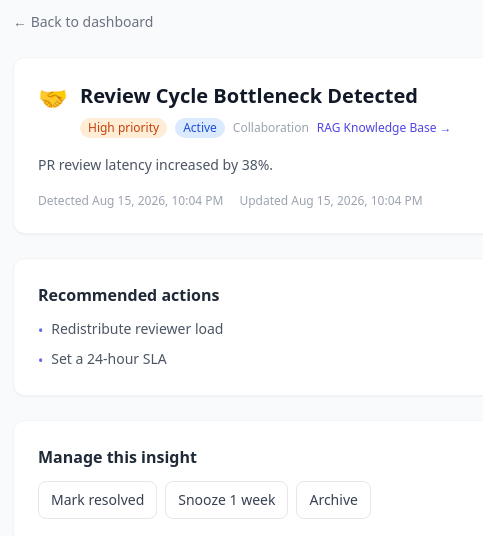
Test case: InsightDetail › resolves the insight when "Mark resolved" is clicked
Click the button "Mark resolved". click: (98, 500)
box: [38,481,157,519]
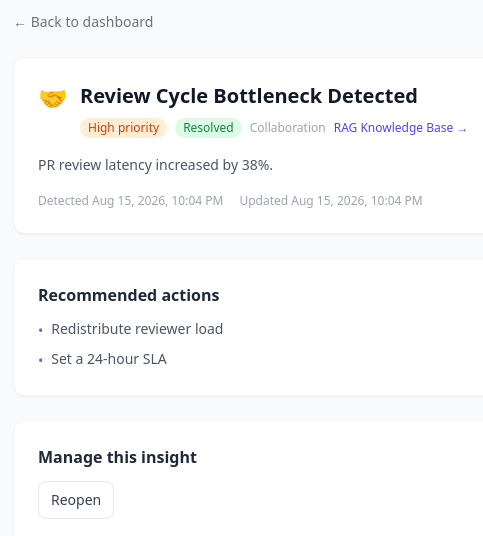
Expected: the button "Reopen" is shown, [38,481,114,519]
